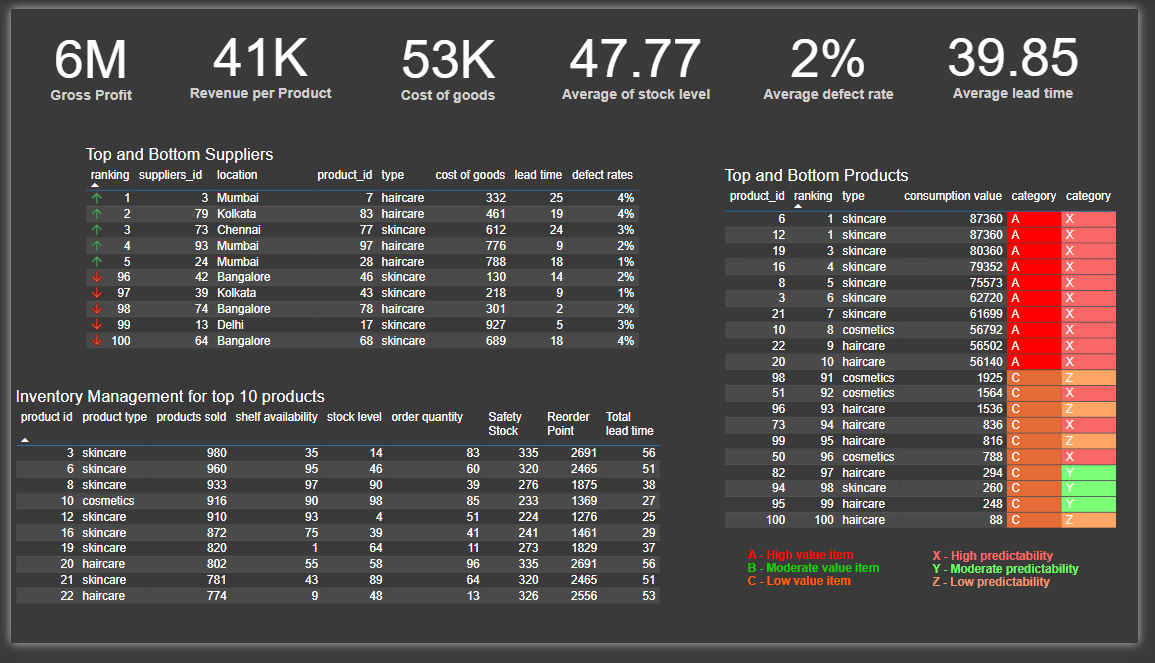

The page's visual inventory and layout, read from the dashboard file:
{"tool":"powerbi","page":{"name":"Sales","canvas":[1280,720],"ordinal":0},"visuals":[{"type":"card","fields":{"Values":["Sum(supplychain sales.gross_profit)"]},"box":[1.1,1.1,179.5,119.3],"z":0},{"type":"card","fields":{"Values":["Sum(supplychain suppliers.cogs)"]},"box":[396.6,6.8,200,109.1],"z":1000},{"type":"card","fields":{"Values":["Sum(supplychain sales.revenue_per_product)"]},"box":[180.7,2.3,205.7,113.6],"z":2000},{"type":"tableEx","title":"Top and Bottom Suppliers","fields":{"Values":["supplychain suppliers_analysis.ranking","supplychain suppliers_analysis.suppliers_id","supplychain suppliers.supplier_location","supplychain suppliers_analysis.product_id","supplychain products.product_type","supplychain suppliers.cogs","supplychain suppliers.suppliers_lead_time","supplychain suppliers.defect_rates"]},"box":[79.5,154.5,659.1,264.8],"z":3000},{"type":"card","fields":{"Values":["Avg(supplychain suppliers.defect_rates)"]},"box":[823.9,0,210.2,119.3],"z":4000},{"type":"card","fields":{"Values":["Avg(supplychain suppliers.total_lead_time)"]},"box":[1034.1,0,209.1,118.2],"z":5000},{"type":"card","fields":{"Values":["Avg(supplychain products.stock_level)"]},"box":[596.6,1.1,227.3,118.2],"z":6000},{"type":"tableEx","title":"Inventory Management for top 10 products","fields":{"Values":["SafetyStockTable.product_id","supplychain products.product_type","supplychain sales.products_sold","supplychain products.shelf_availability","supplychain products.stock_level","supplychain orders.order_quantities","SafetyStockTable.Safety Stock","SafetyStockTable.Reorder Point","SafetyStockTable.Total lead time"]},"box":[0,429.5,754.5,258],"z":7000},{"type":"tableEx","title":"Top and Bottom Products","fields":{"Values":["supplychain product_analysis.product_id","supplychain product_analysis.sales_rank","supplychain products.product_type","supplychain product_analysis.annual_consumption_value","supplychain product_analysis.abc_category","supplychain product_analysis.xyz_category"]},"box":[805.7,178.4,422.7,430.7],"z":8000},{"type":"textbox","box":[1042,609.1,186.4,61.4],"z":9000},{"type":"textbox","box":[831.8,608,172.7,62.5],"z":10000}]}

Visuals, with their boxes in screenshot pixels (x1, y1, x2, y2), scaled from the page's 1280x720 canvas onto the 1155x663 screenshot:
card - Sum(supplychain sales.gross_profit): BBox(1, 1, 163, 111)
card - Sum(supplychain suppliers.cogs): BBox(358, 6, 538, 107)
card - Sum(supplychain sales.revenue_per_product): BBox(163, 2, 349, 107)
"Top and Bottom Suppliers" tableEx: BBox(72, 142, 666, 386)
card - Avg(supplychain suppliers.defect_rates): BBox(743, 0, 933, 110)
card - Avg(supplychain suppliers.total_lead_time): BBox(933, 0, 1122, 109)
card - Avg(supplychain products.stock_level): BBox(538, 1, 743, 110)
"Inventory Management for top 10 products" tableEx: BBox(0, 395, 681, 633)
"Top and Bottom Products" tableEx: BBox(727, 164, 1108, 561)
textbox: BBox(940, 561, 1108, 617)
textbox: BBox(751, 560, 906, 617)
